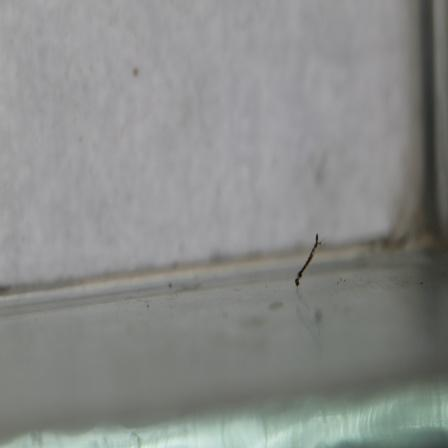Jentik-Nyamuk: (290, 232, 326, 289)
